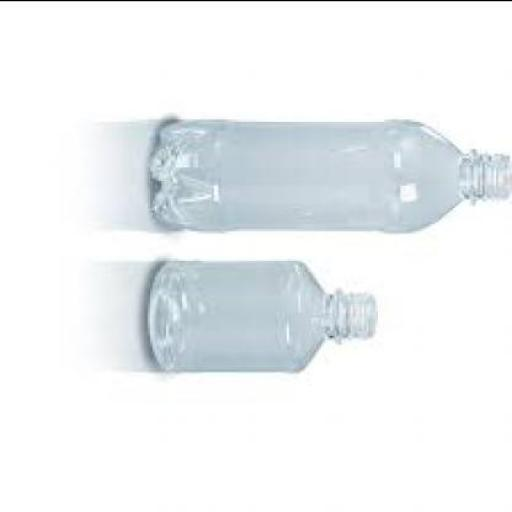plastic: (150, 118, 511, 235), (148, 262, 378, 376)
